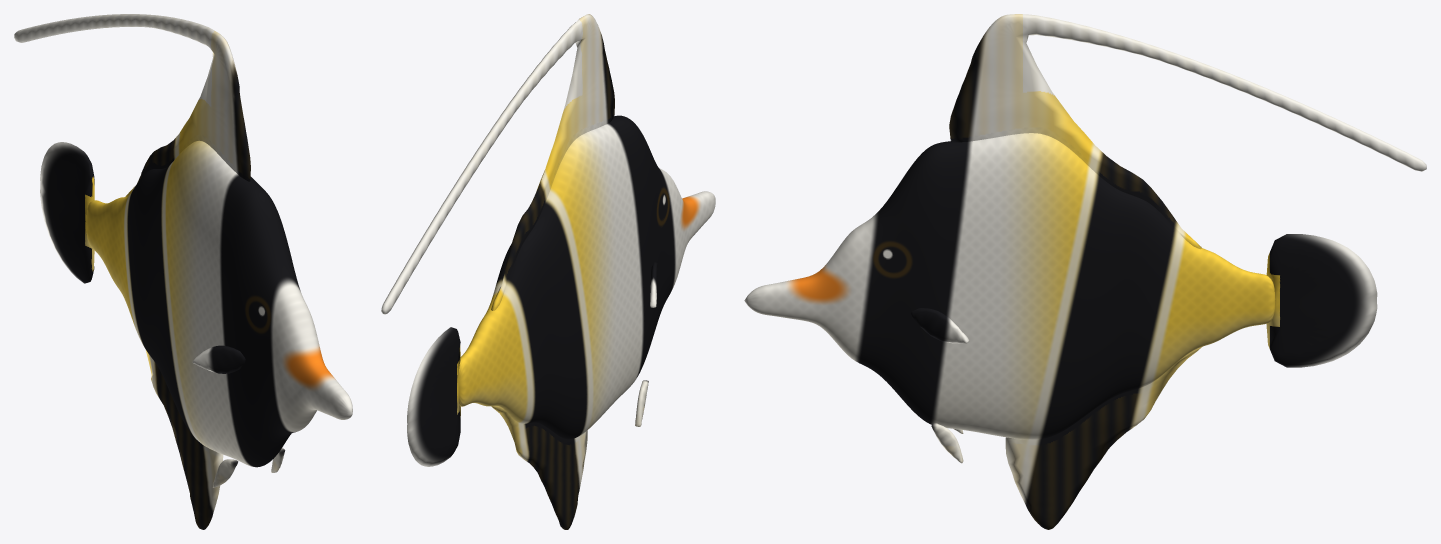
The model's file is fish-idol.glb.
3 renders of one model, left to right at view 1: azimuth 30°, elevation 25°; view 2: azimuth 150°, elevation 25°; view 3: azimuth 270°, elevation 25°, orthographic. The views are drawn at different scales.
Parts seen in each view (by area): view 1: idol; view 2: idol; view 3: idol.
Part boxes in pixels (x1,y1,x2,y2): idol: (14,14,352,529); idol: (381,14,715,529); idol: (744,14,1426,529).
Bounding box in the file's own units: 0.1666 × 0.8086 × 0.9693.
Materials: 1 (1 with a texture image).
